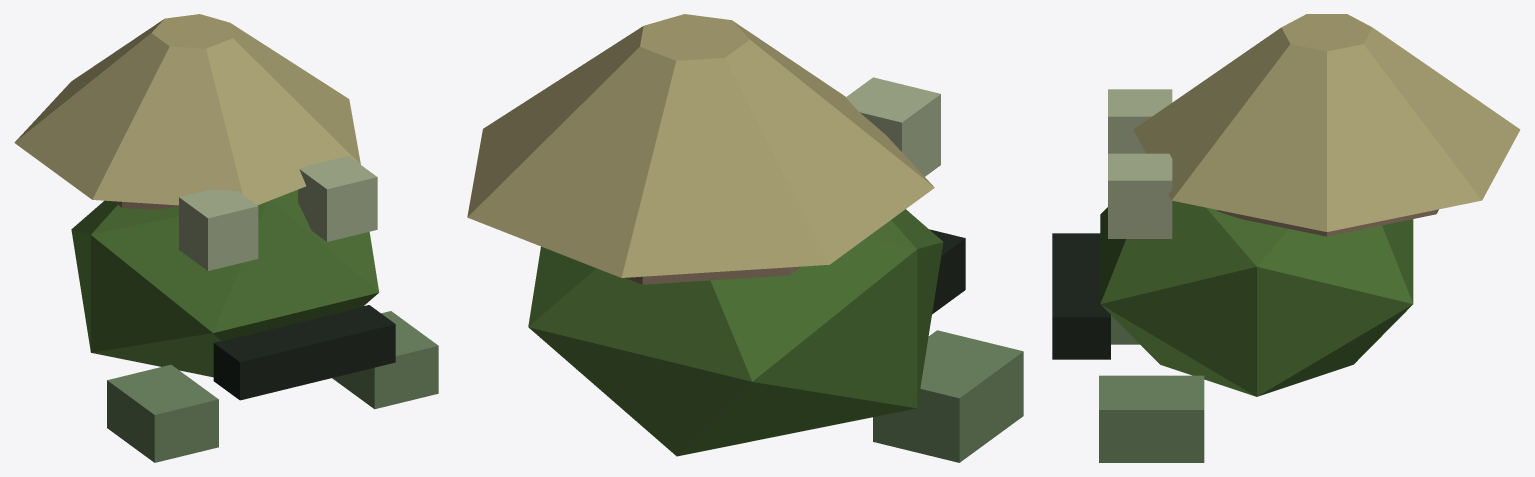
File: spitter.glb
3 views of the same model, side by side, from view 1: azimuth 30°, elevation 25°; view 2: azimuth 150°, elevation 25°; view 3: azimuth 270°, elevation 25° (orthographic). The views are drawn at different scales.
Parts seen in each view (by area): view 1: Cap, Body, Mouth, FootR, EyeR, EyeL, FootL; view 2: Cap, Body, FootR, EyeR, Mouth, Gill; view 3: Cap, Body, FootL, Mouth, EyeL, EyeR, Gill.
Boxes of the visible parts, left/top/right/bottom form: Cap: left=14, top=14, right=360, bottom=205; Body: left=71, top=189, right=379, bottom=377; Mouth: left=213, top=305, right=395, bottom=400; FootR: left=107, top=364, right=218, bottom=462; EyeR: left=179, top=189, right=258, bottom=270; EyeL: left=298, top=156, right=377, bottom=241; FootL: left=332, top=311, right=438, bottom=409; Cap: left=467, top=14, right=934, bottom=277; Body: left=528, top=209, right=943, bottom=456; FootR: left=873, top=330, right=1023, bottom=462; EyeR: left=846, top=77, right=940, bottom=176; Mouth: left=929, top=229, right=965, bottom=314; Gill: left=625, top=266, right=800, bottom=284; Cap: left=1133, top=14, right=1520, bottom=231; Body: left=1100, top=200, right=1413, bottom=396; FootL: left=1099, top=375, right=1204, bottom=462; Mouth: left=1052, top=233, right=1110, bottom=359; EyeL: left=1108, top=153, right=1172, bottom=238; EyeR: left=1108, top=89, right=1172, bottom=153; Gill: left=1217, top=209, right=1438, bottom=236.
Size of the model in its own units: 0.65 by 0.67 by 0.8015.
